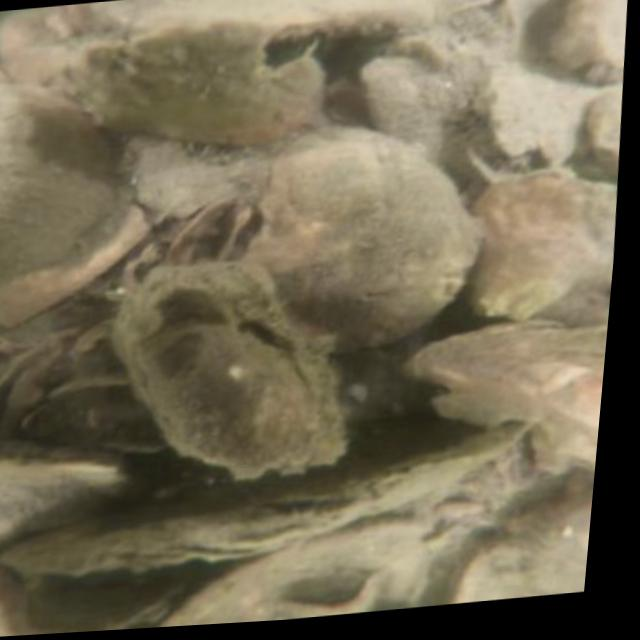Oyster-Closed: (0, 417, 537, 584)
Oyster-Indeterminate: (242, 120, 485, 358), (102, 258, 352, 485), (0, 80, 118, 278), (0, 426, 153, 546), (443, 479, 593, 601)
